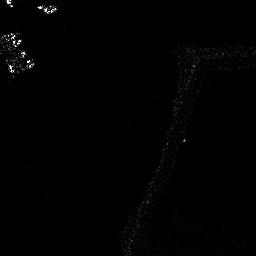ship: (9, 30, 35, 68)
